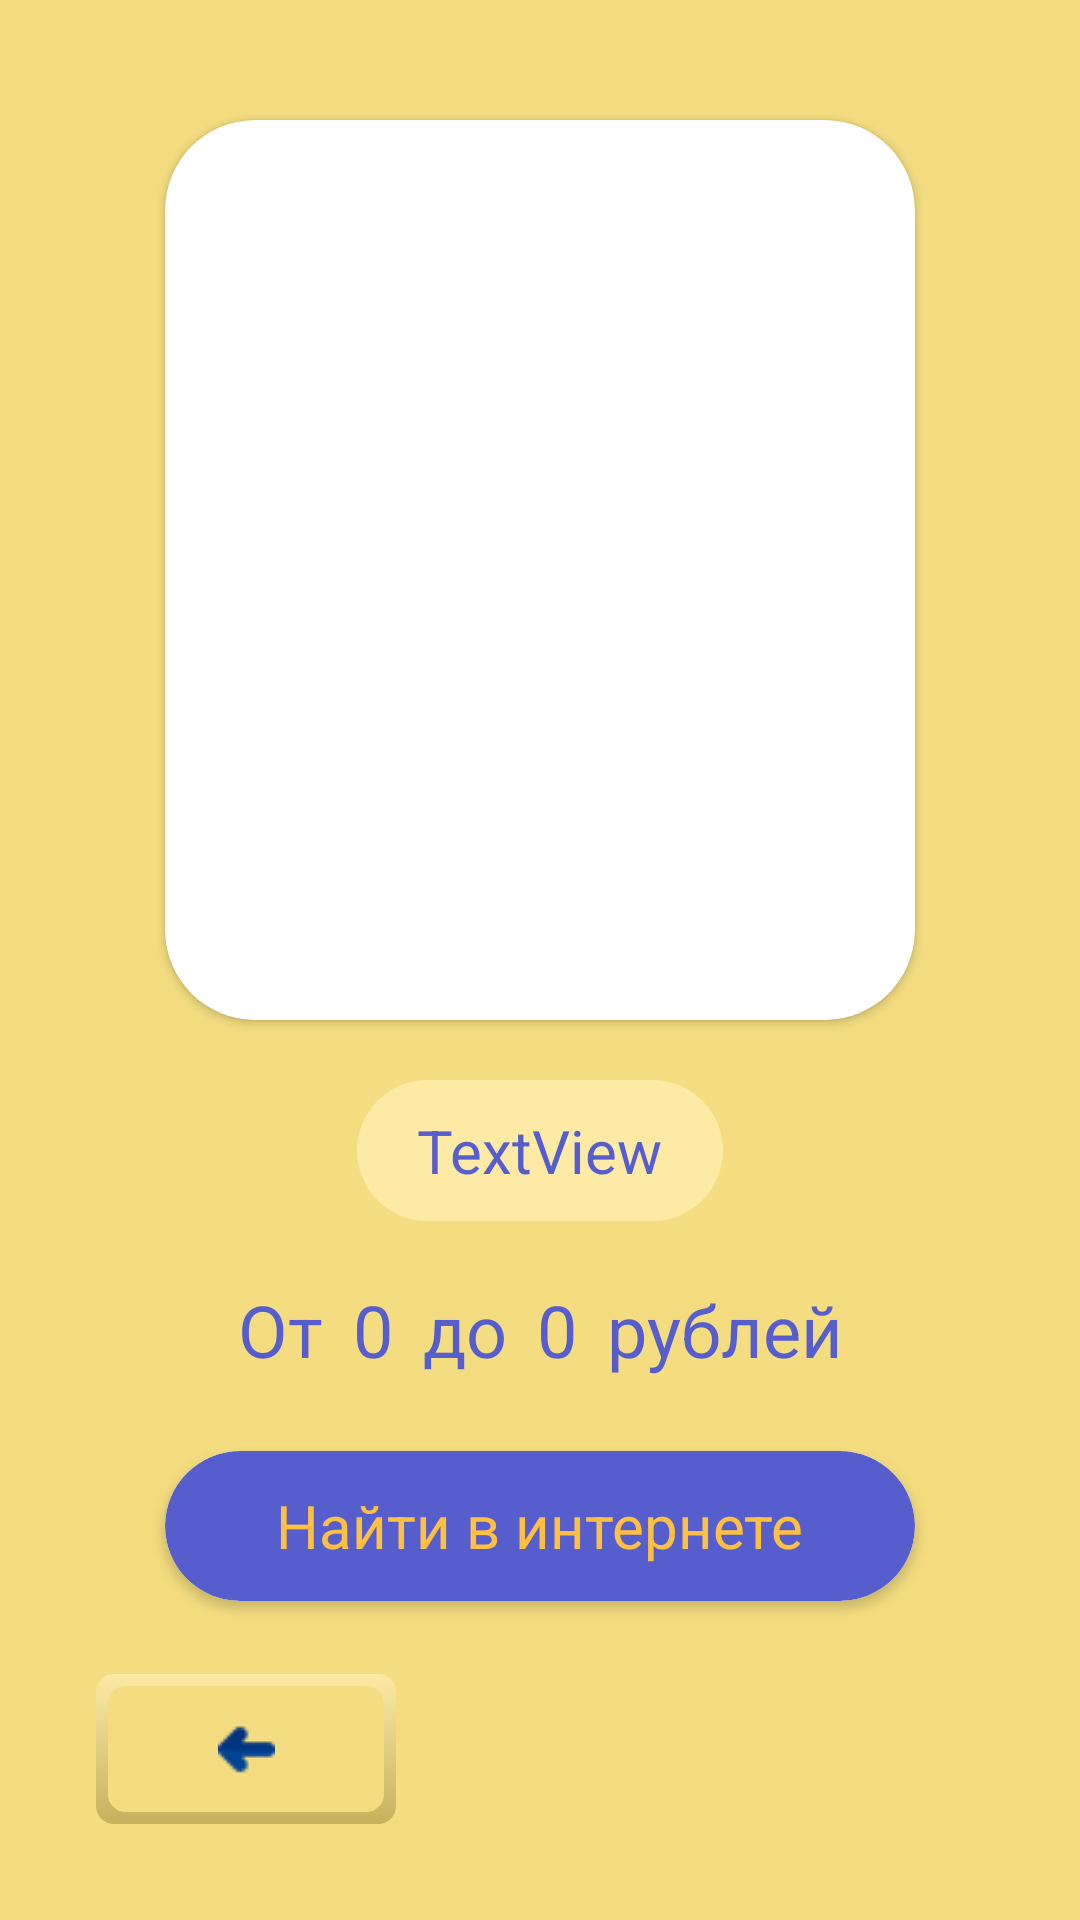

Locate icon controls on the screen. Image size 1080×1920, boxes as (x1, y1, x2, y2).
arrow: (218, 1726, 275, 1773)
